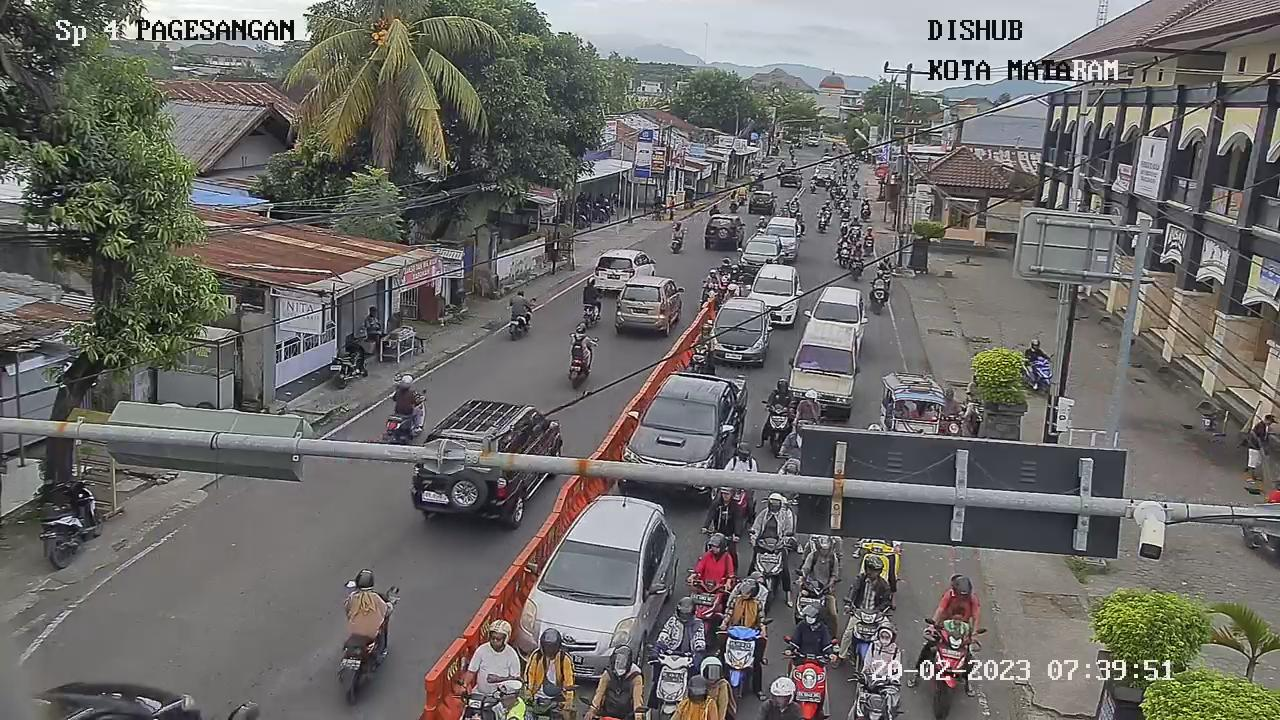car: (518, 482, 676, 651), (419, 387, 564, 527), (623, 374, 748, 470), (784, 317, 865, 413), (697, 301, 777, 368), (605, 279, 680, 339), (803, 279, 871, 334), (753, 264, 805, 323), (592, 249, 657, 292), (760, 214, 802, 260), (703, 211, 745, 251), (741, 236, 785, 267), (747, 189, 777, 217)
cidomo: (868, 366, 949, 444)
motorcycle: (923, 616, 987, 720), (777, 634, 842, 718), (846, 655, 908, 720), (839, 593, 893, 662), (715, 620, 766, 688), (644, 649, 694, 718), (745, 528, 788, 593), (756, 403, 796, 451), (1027, 354, 1055, 391), (867, 282, 892, 314), (846, 253, 867, 282), (861, 232, 878, 256), (836, 246, 851, 269)
person: (458, 617, 523, 699), (587, 644, 651, 719), (338, 565, 393, 641), (520, 628, 579, 698), (654, 595, 708, 661), (792, 530, 843, 599), (844, 553, 895, 619), (929, 572, 981, 635), (782, 598, 835, 659), (748, 491, 797, 554), (720, 576, 767, 639), (696, 653, 739, 720), (691, 531, 737, 592), (858, 621, 901, 685), (703, 483, 745, 543), (670, 672, 721, 720), (390, 373, 425, 420), (793, 388, 825, 430), (762, 375, 795, 415), (568, 319, 598, 355), (937, 388, 964, 423), (1022, 332, 1049, 367), (508, 287, 534, 318), (581, 274, 605, 306), (689, 321, 717, 348), (697, 265, 720, 291), (723, 262, 747, 286), (715, 256, 734, 277), (869, 269, 887, 291), (848, 242, 865, 263), (878, 254, 893, 274), (723, 282, 737, 299), (861, 226, 876, 240)
